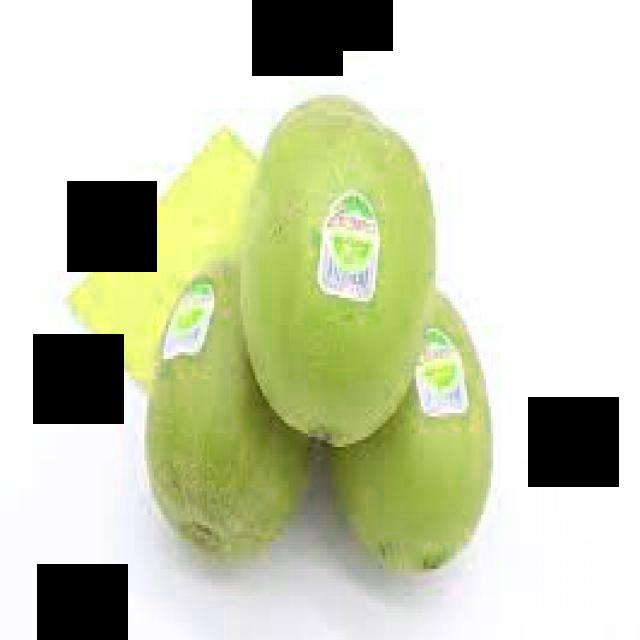kiwi: (222, 89, 444, 452), (314, 255, 499, 580), (136, 245, 322, 564)
